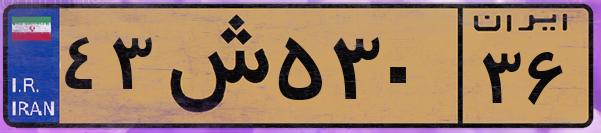0: (385, 28, 445, 110)
3: (330, 28, 385, 110), (475, 38, 525, 113), (110, 28, 158, 98)
4: (57, 26, 110, 100)
5: (270, 28, 330, 110)
6: (525, 38, 570, 115)
ش: (158, 12, 270, 120)
